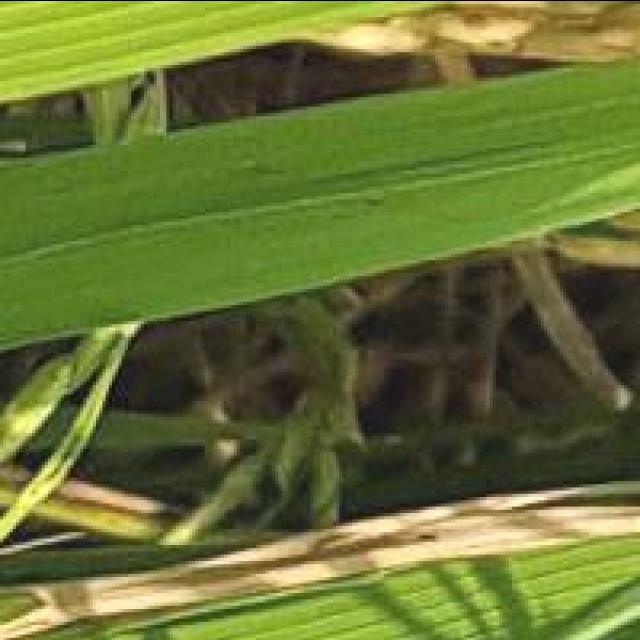Bacterial_Leaf_Blight: (160, 483, 640, 595)
